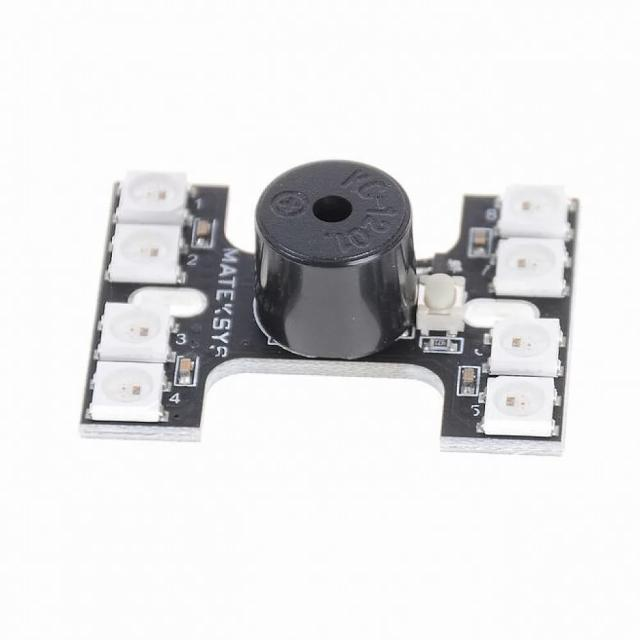2235: (412, 268, 464, 333)
LED: (94, 297, 180, 361), (109, 219, 185, 289), (88, 356, 168, 421), (492, 312, 567, 377), (487, 378, 566, 436), (498, 185, 578, 242), (111, 168, 189, 221), (493, 242, 574, 293)
buzzer: (245, 145, 420, 373)
capacitor 1V5: (178, 346, 198, 391), (194, 219, 215, 248), (468, 230, 493, 252), (459, 366, 477, 392)
resistor IR1: (431, 333, 464, 354)
